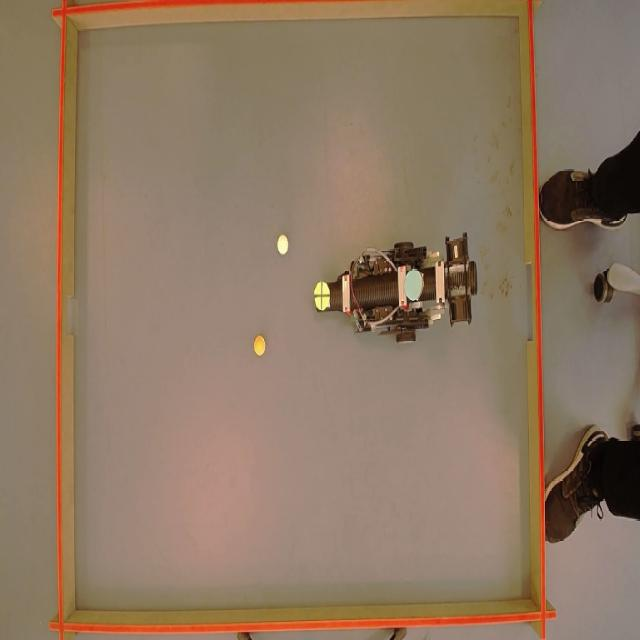orange: (253, 335, 268, 357)
robot: (318, 241, 483, 348)
robot-front: (314, 280, 330, 311)
robot-rear: (404, 264, 422, 300)
white: (275, 234, 288, 254)
